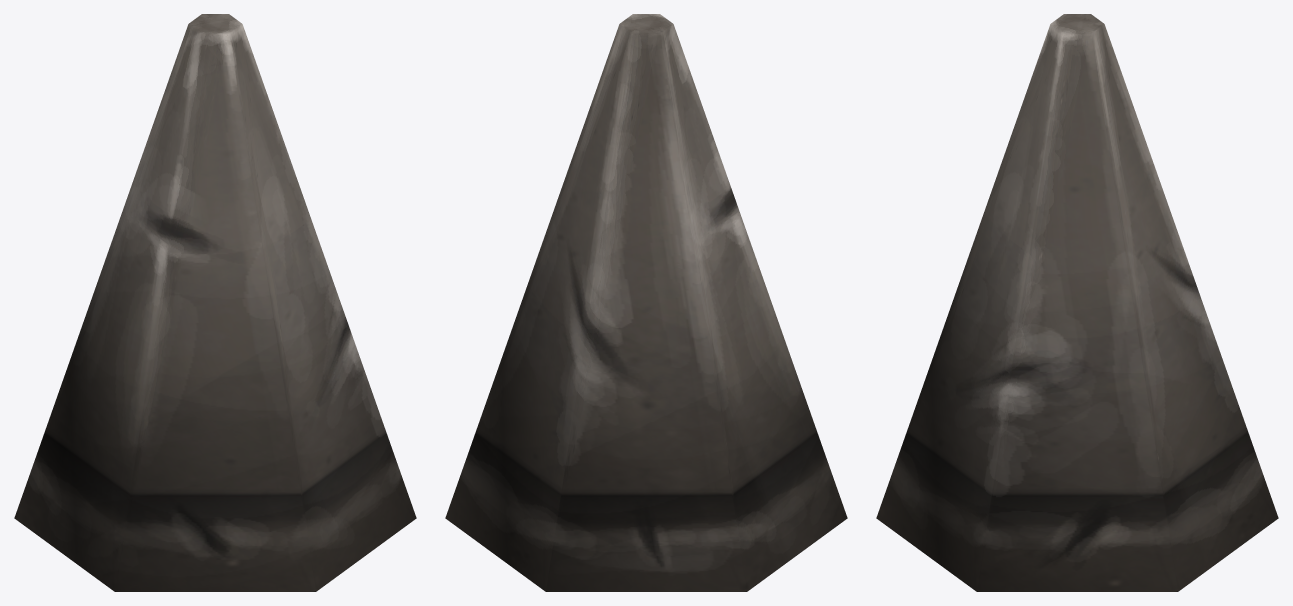
File: spike.fbx
The picture shows the model from 3 angles, left to right: view 1: azimuth 30°, elevation 25°; view 2: azimuth 150°, elevation 25°; view 3: azimuth 270°, elevation 25°; orthographic projection.
Visible parts, largest first — view 1: spike; view 2: spike; view 3: spike.
Part boxes in pixels (<box>): spike: <box>14,14,416,591</box>; spike: <box>445,14,847,591</box>; spike: <box>876,14,1278,591</box>.
Bounding box in the file's own units: 0.8687 × 1.36 × 1.
